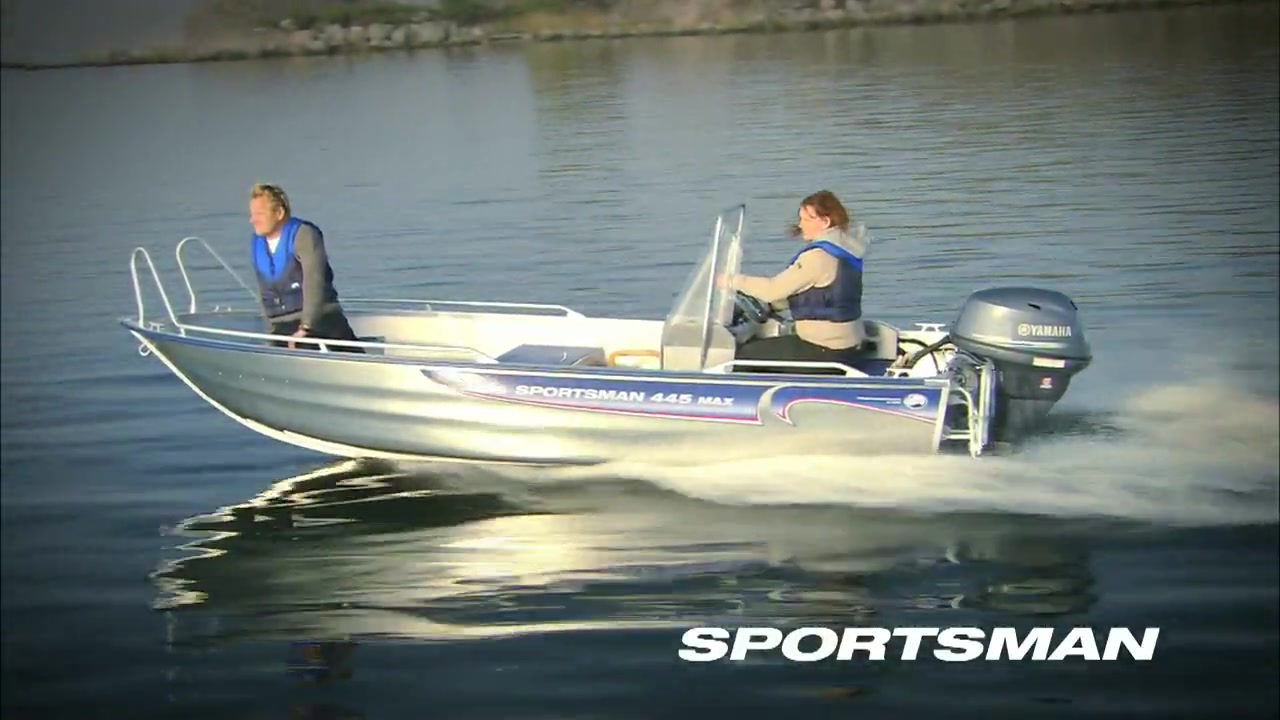boat: (120, 205, 1094, 477)
